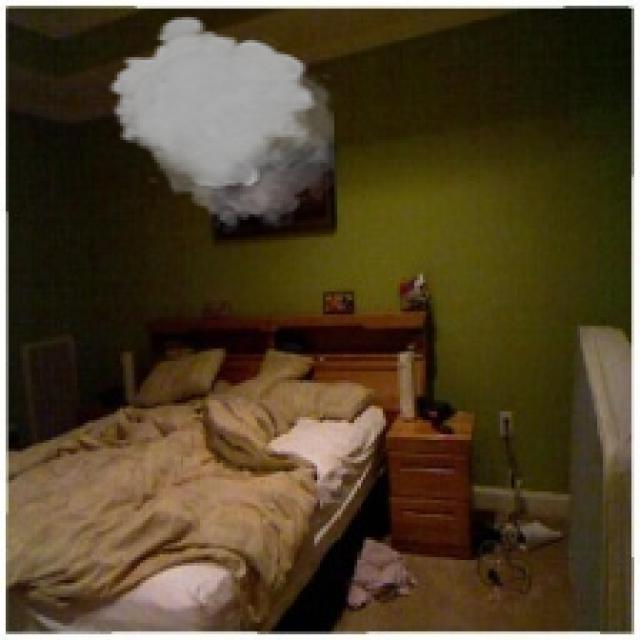Smoke: (106, 14, 334, 234)
